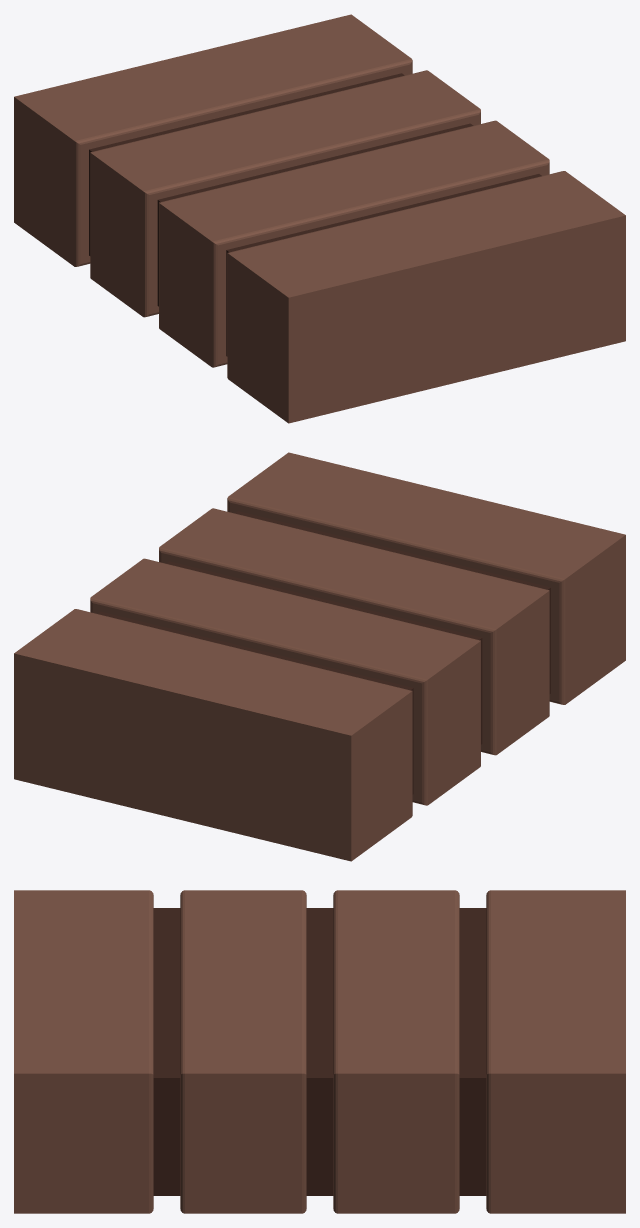
File: BRIDGE.fbx
3 renders of one model, top to bottom at view 1: azimuth 30°, elevation 25°; view 2: azimuth 150°, elevation 25°; view 3: azimuth 270°, elevation 25°, orthographic. The views are drawn at different scales.
Parts seen in each view (by area): view 1: BRIDGE; view 2: BRIDGE; view 3: BRIDGE.
Boxes of the visible parts, bbox=[...] form: BRIDGE: bbox=[14, 14, 625, 423]; BRIDGE: bbox=[14, 452, 625, 861]; BRIDGE: bbox=[14, 890, 625, 1213].
Bounding box in the file's own units: 100 × 35.64 × 141.
